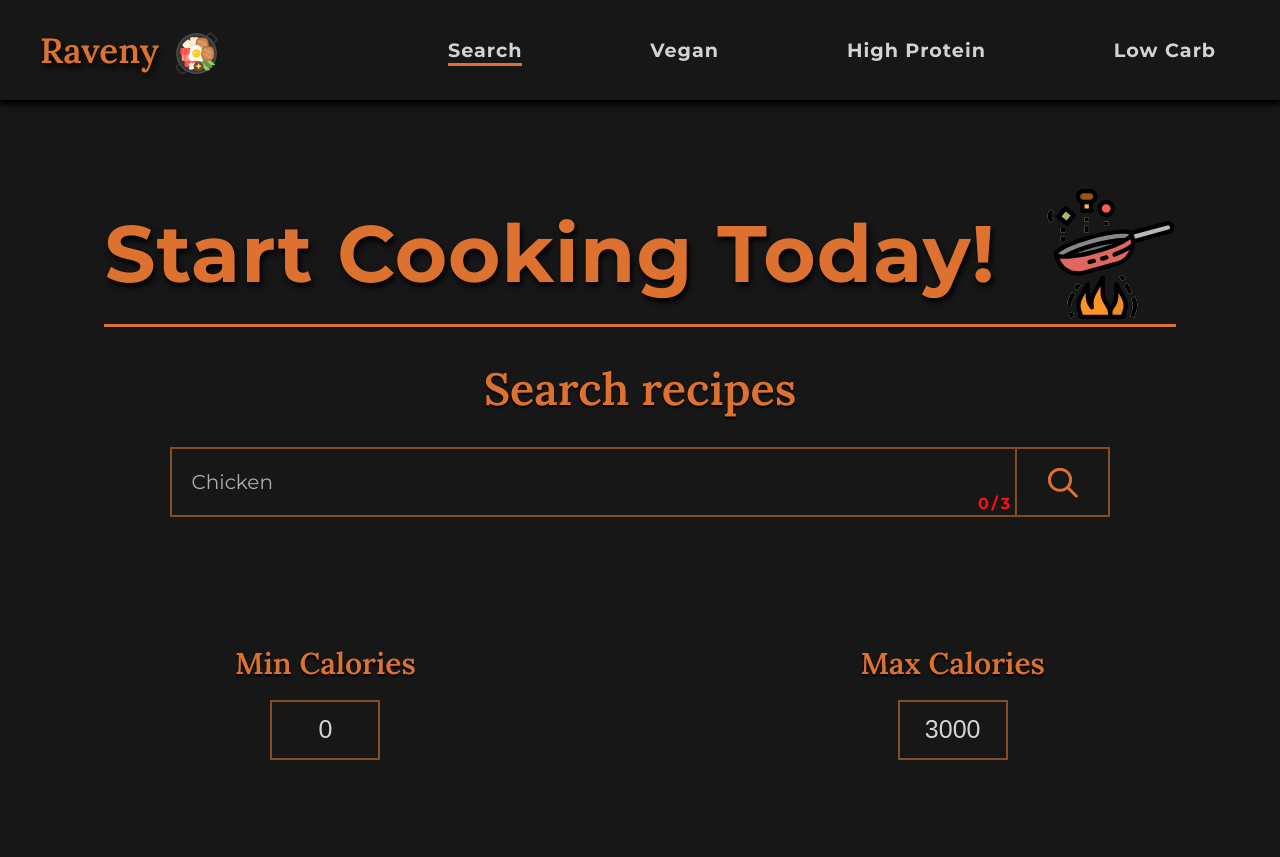
search › should validate query input
Click the button named "Search": click(1062, 482) [1015, 448, 1110, 517]
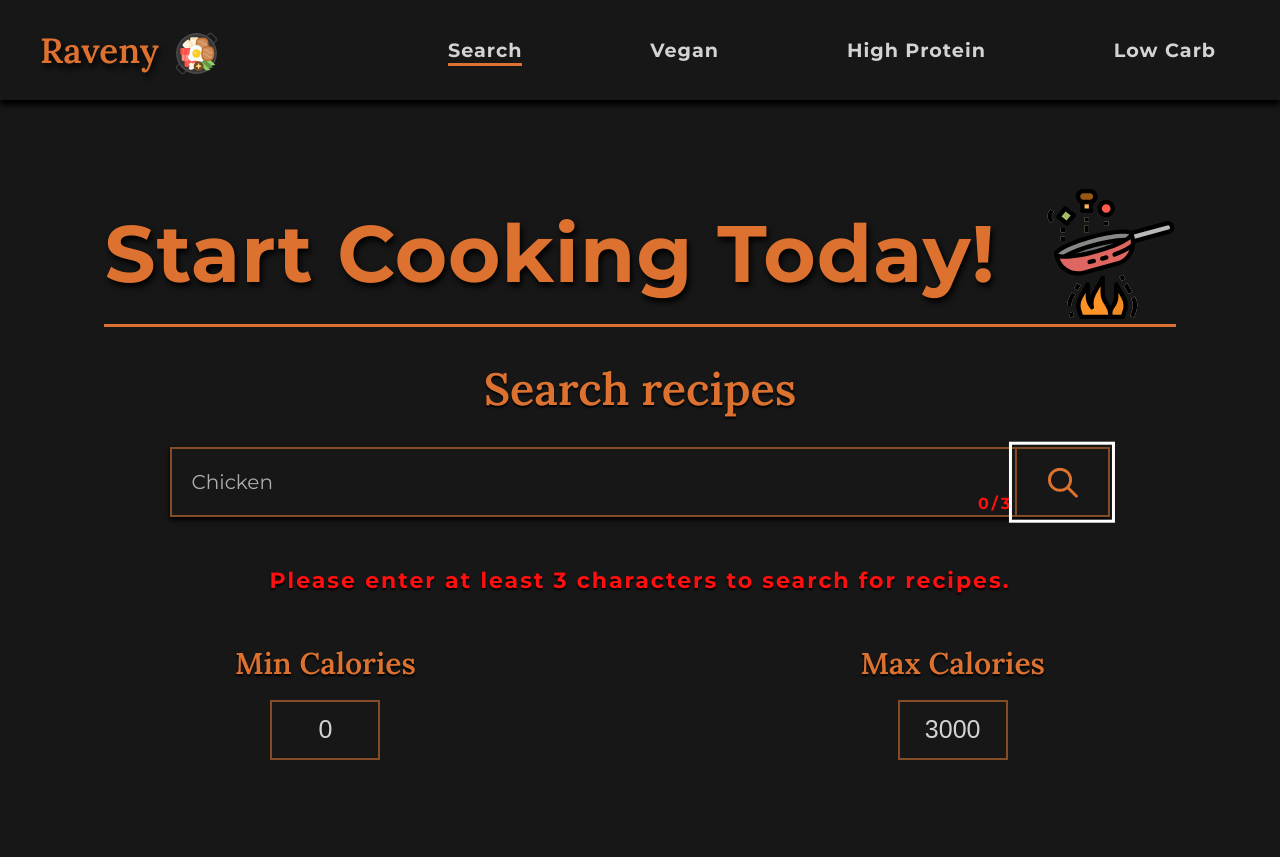
Check: the message "Please enter at least 3 characters to search for recipes." is shown, box [270, 567, 1010, 594]
